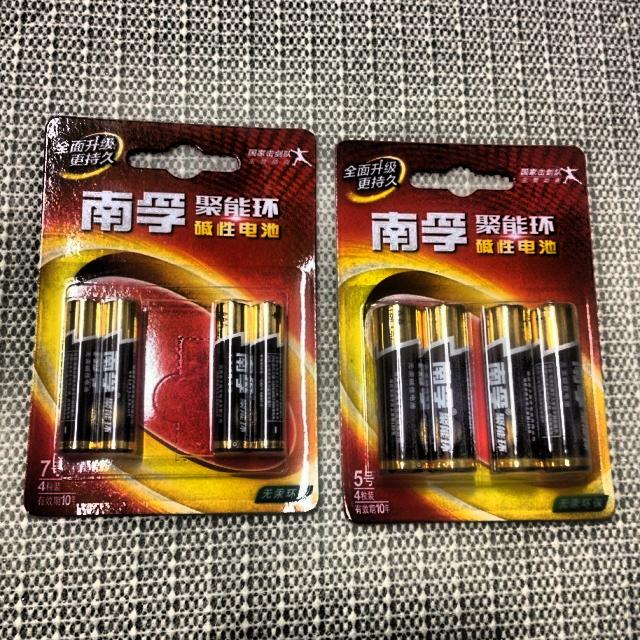Non-Valuable Waste - Batteries: (483, 303, 589, 472), (373, 303, 475, 474), (60, 299, 139, 452), (213, 300, 285, 453)
